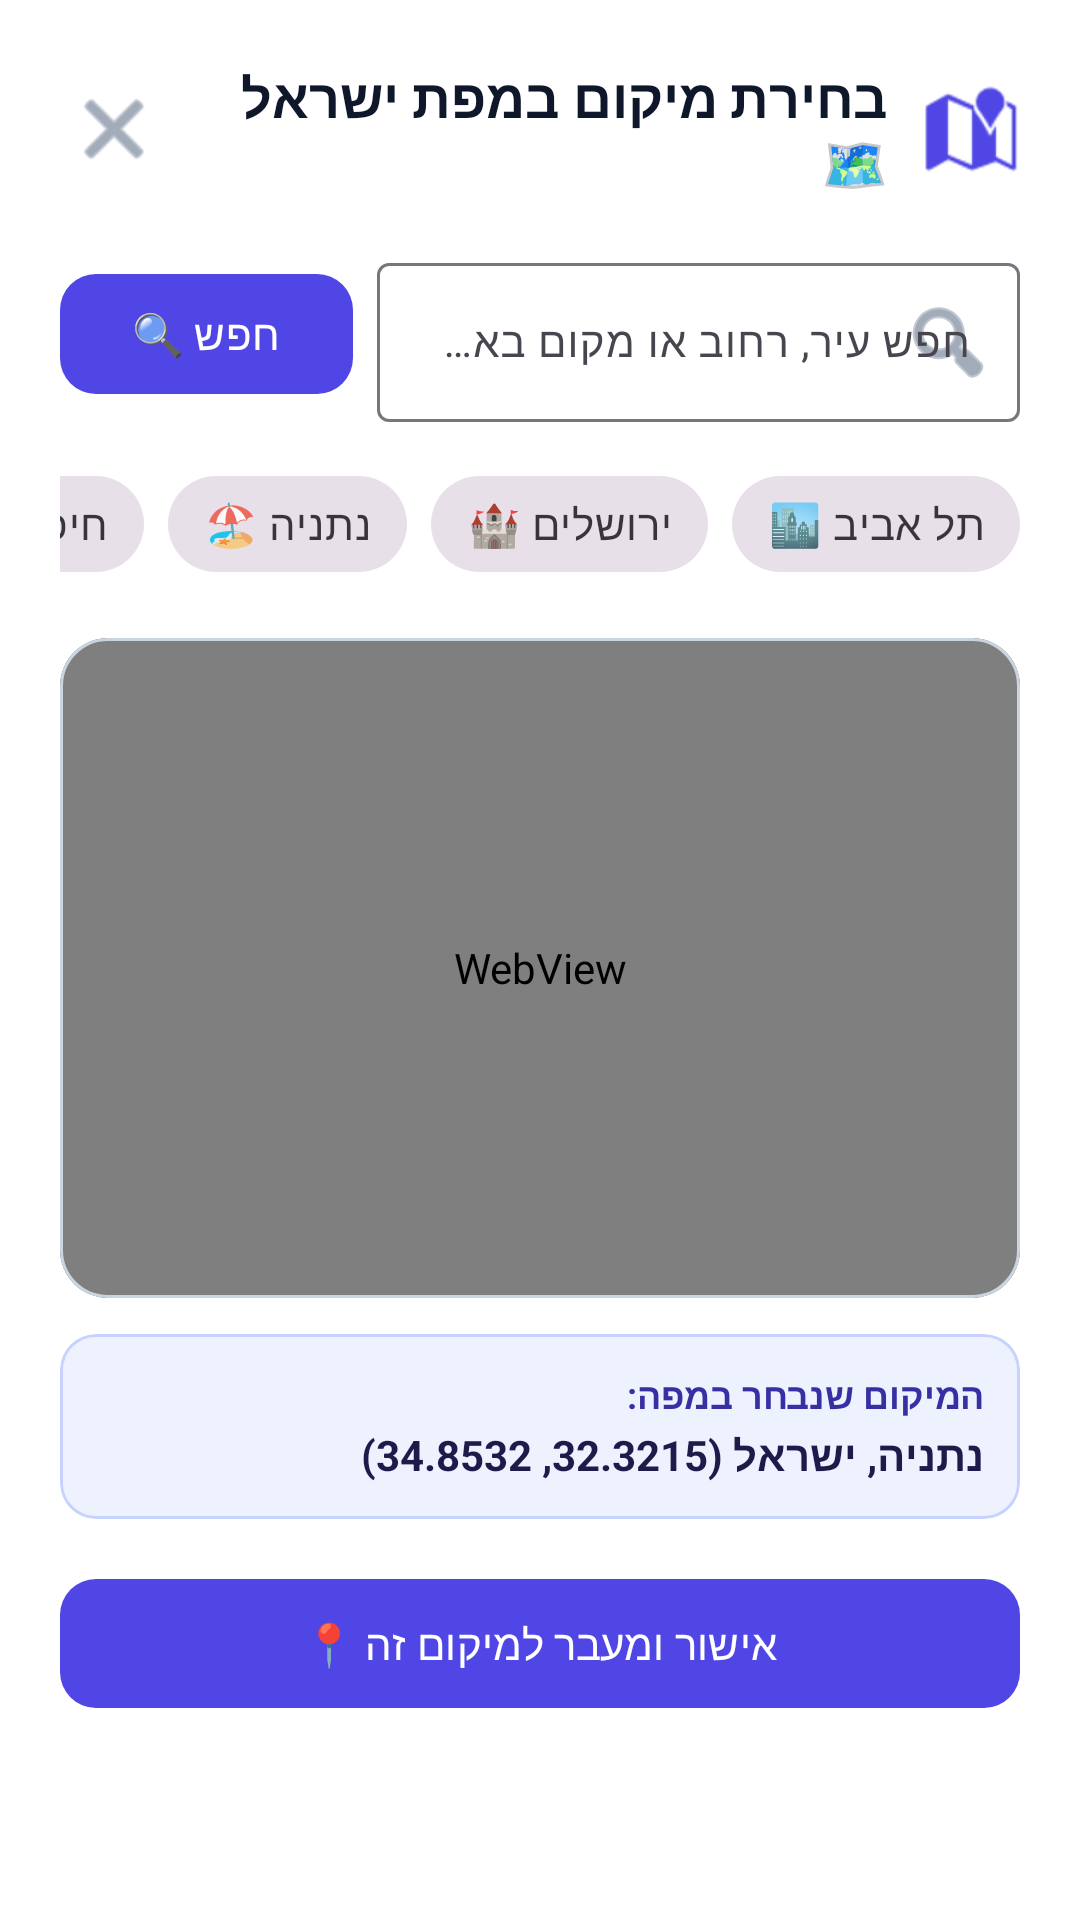

Locate icon controls on the screen. Image size 1080w x 1920h, boxes as (x1, y1, x2, y2).
close clear cancel: (84, 99, 144, 159)
map: (925, 87, 1017, 171)
